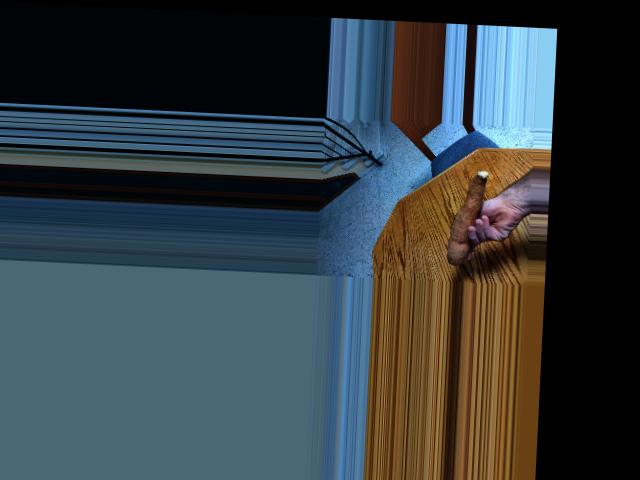sweet_potato: (443, 167, 489, 264)
